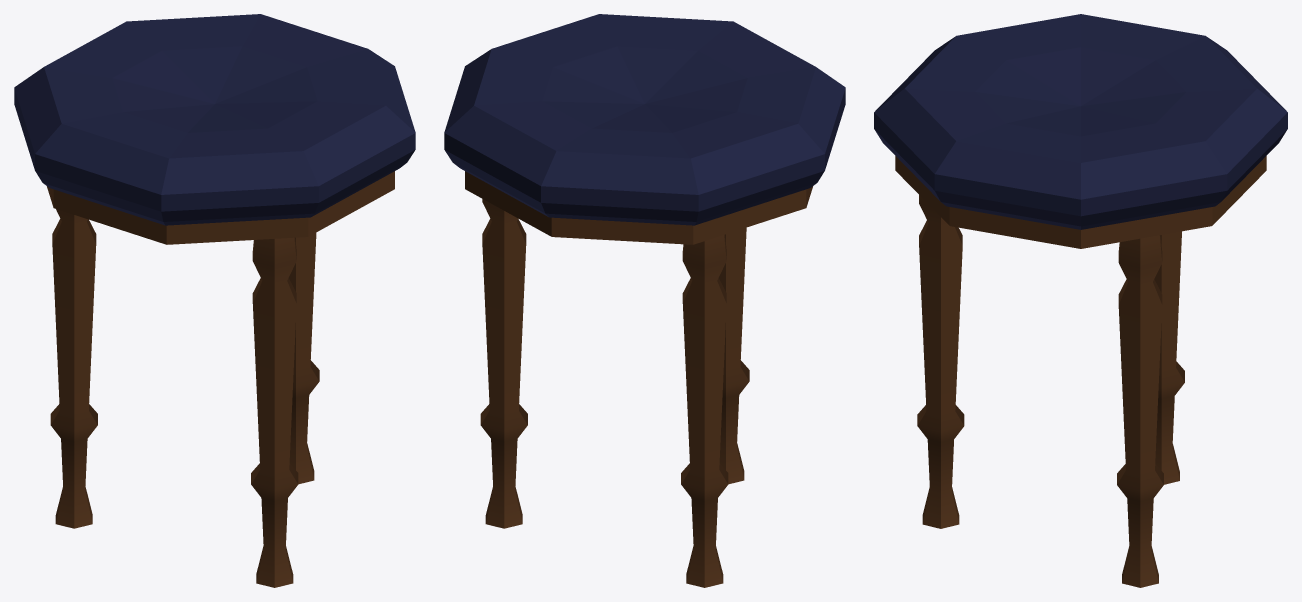
File: stool_blue.fbx
3 views of the same model, side by side, from view 1: azimuth 30°, elevation 25°; view 2: azimuth 150°, elevation 25°; view 3: azimuth 270°, elevation 25° (orthographic).
Visible parts, largest first — view 1: stool_top1; view 2: stool_top1; view 3: stool_top1.
Part boxes in pixels (x1=…): stool_top1: x1=14, y1=14, x2=415, y2=587; stool_top1: x1=444, y1=14, x2=845, y2=587; stool_top1: x1=874, y1=14, x2=1287, y2=587.
Size of the model in its own units: 1.05 by 1.22 by 1.05.
1 material, 1 textured.
